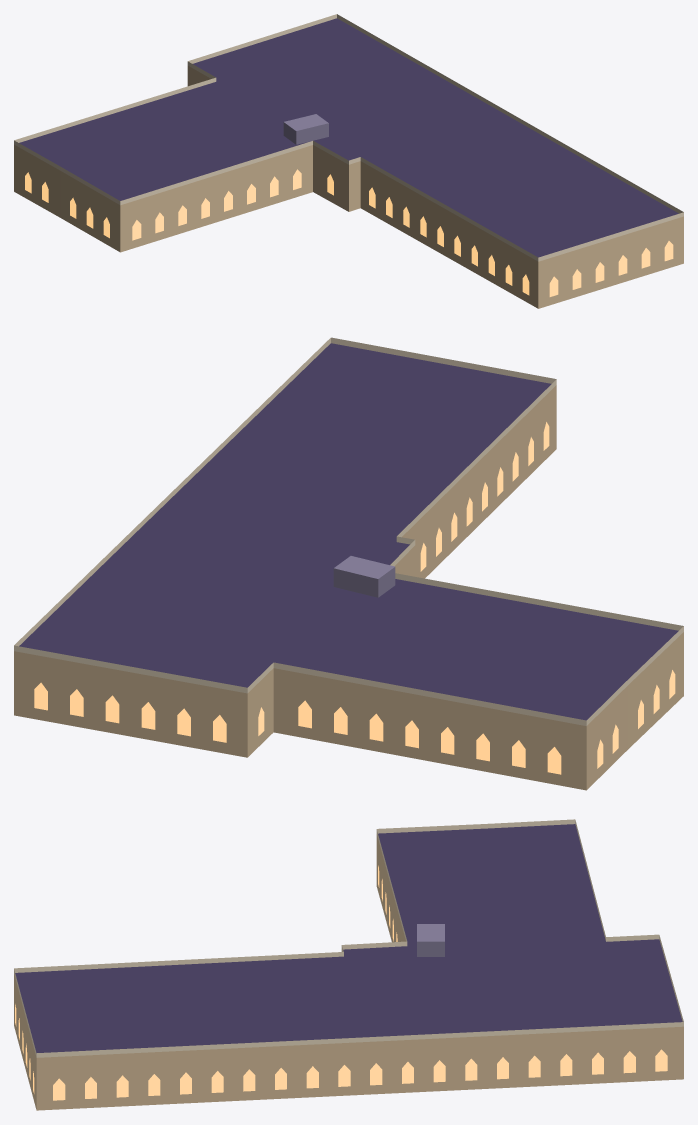
The picture shows the model from 3 angles, top to bottom: view 1: azimuth 30°, elevation 25°; view 2: azimuth 150°, elevation 25°; view 3: azimuth 270°, elevation 25°; orthographic projection. The views are drawn at different scales.
Visible parts, largest first — view 1: campus/b-078-0; view 2: campus/b-078-0; view 3: campus/b-078-0.
Part boxes in pixels (<box>): campus/b-078-0: <box>14,14,683,308</box>; campus/b-078-0: <box>14,337,683,790</box>; campus/b-078-0: <box>14,819,683,1110</box>.
Bounding box in the file's own units: 58.95 × 8 × 71.4.
